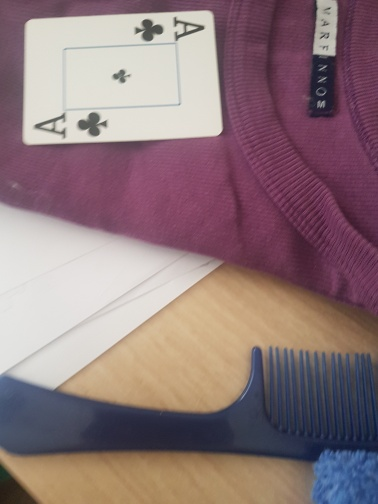ace: (23, 10, 223, 147)
